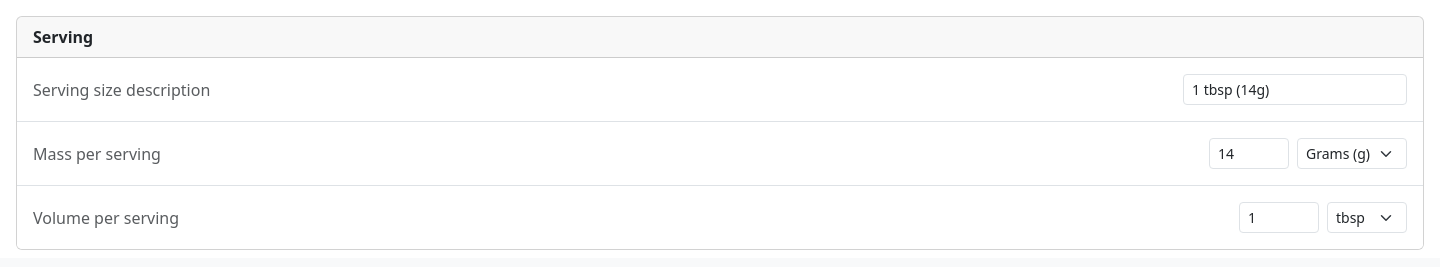
Test: PreparationServingSection › keeps the mass amount when the amount input is cleared
Clear the field named "Mass amount" at point(1249, 154), box x1=1209 y1=138 x2=1289 y2=169
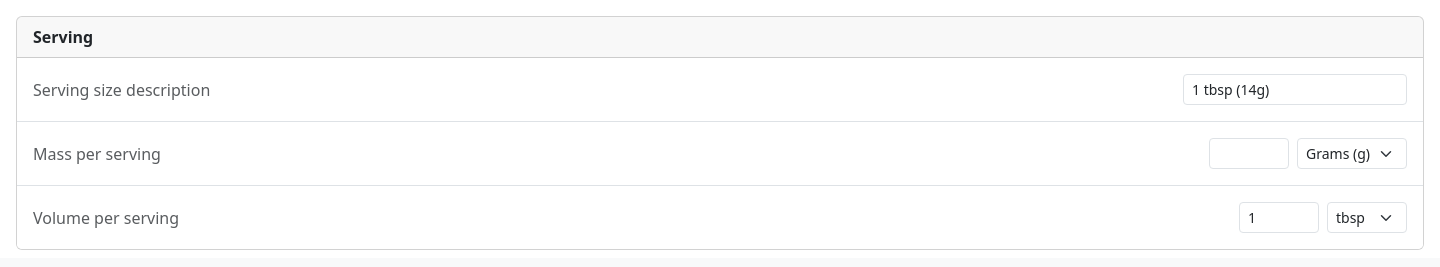
Leave the field named "Mass amount", box x1=1209 y1=138 x2=1289 y2=169
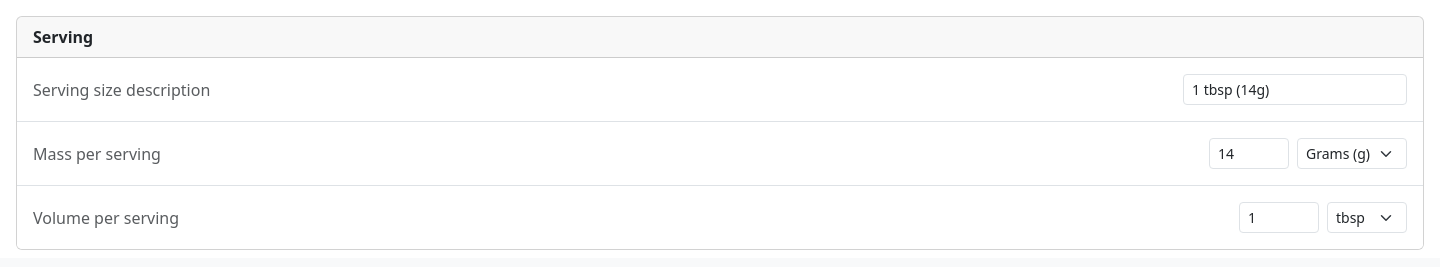
Now the field named "Mass amount" holds "14", box x1=1209 y1=138 x2=1289 y2=169
